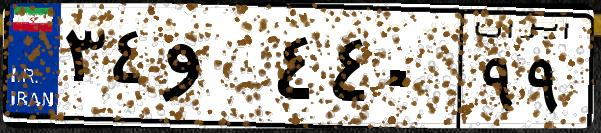0: (385, 28, 445, 110)
3: (57, 26, 110, 100)
4: (270, 28, 330, 110), (330, 28, 385, 110), (110, 28, 158, 98)
9: (475, 38, 525, 113), (525, 38, 570, 115)
و: (158, 20, 270, 120)
